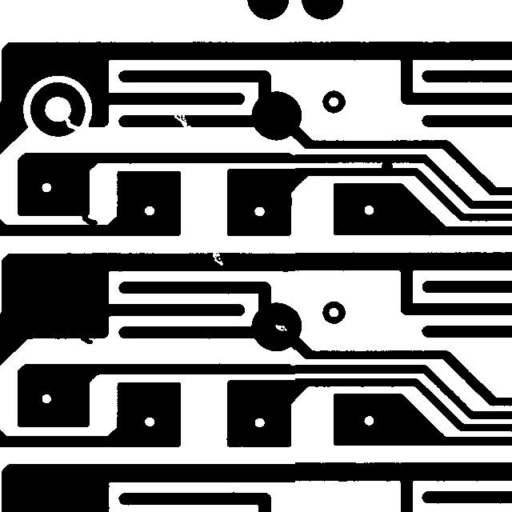mousebite: (203, 242, 230, 273)
open: (52, 107, 88, 138), (166, 104, 199, 137)
pin-hole: (267, 317, 294, 338)
short: (73, 196, 105, 233), (374, 152, 400, 176)
spur: (73, 327, 100, 351)
